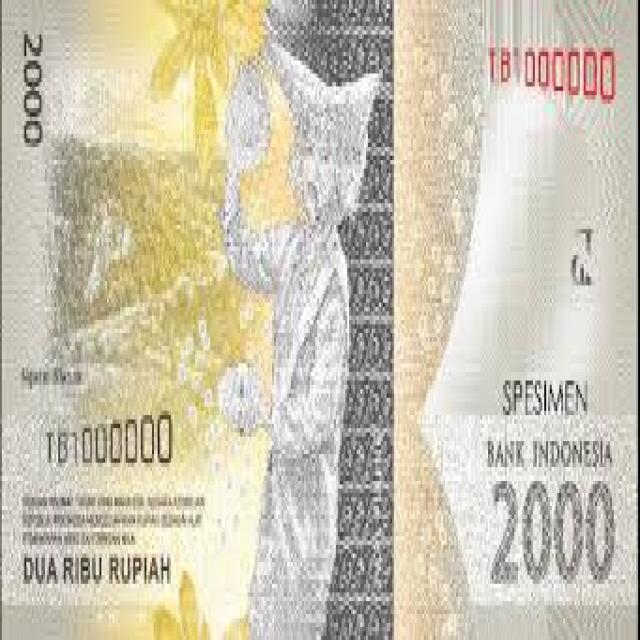dua ribu rupiah: (4, 2, 640, 640), (229, 28, 372, 592), (482, 464, 628, 606)
